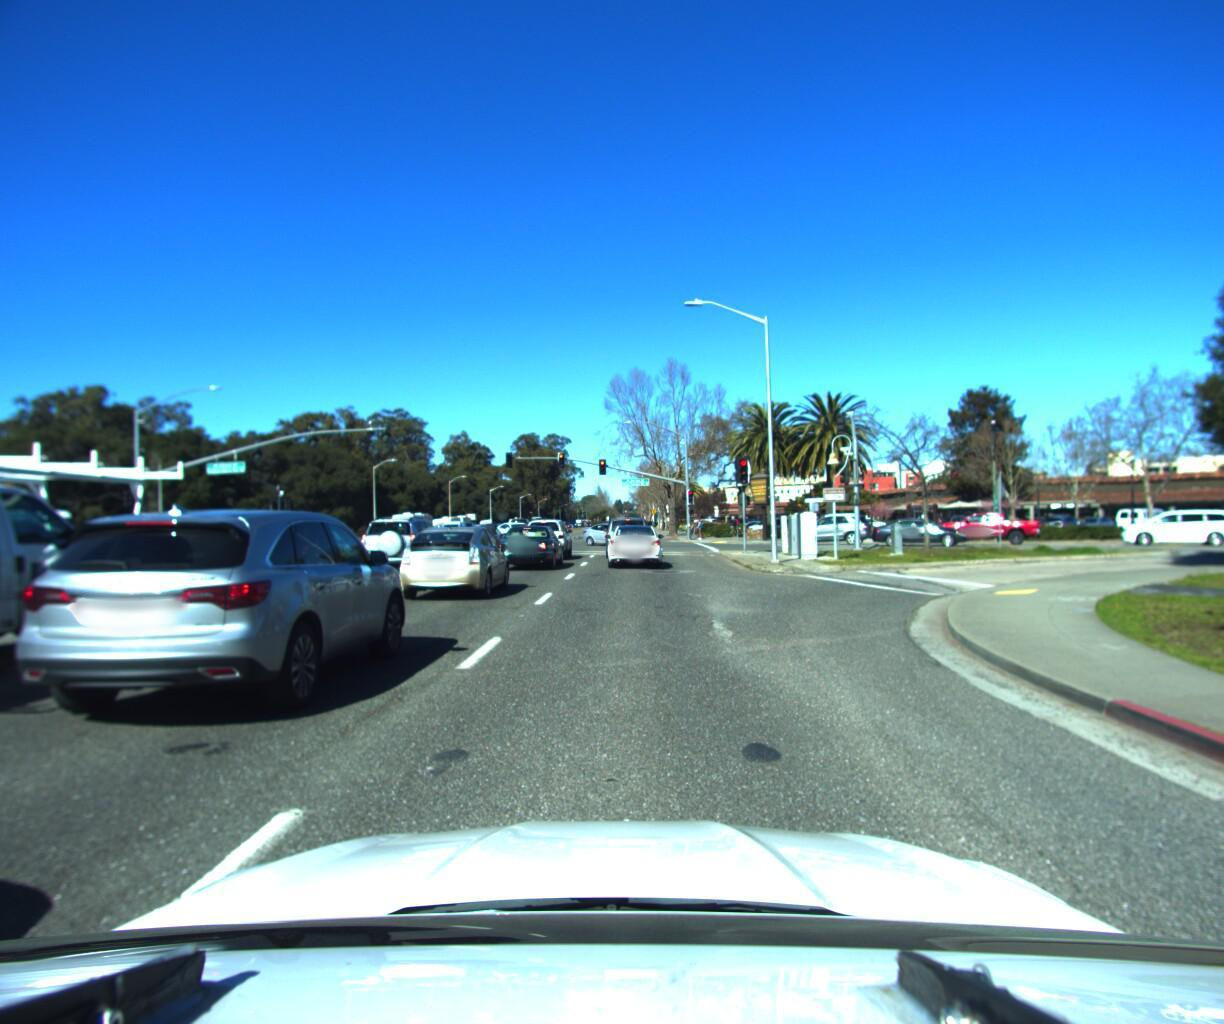car: (217, 516, 375, 604), (390, 523, 512, 606), (353, 518, 449, 581), (1107, 502, 1224, 542), (925, 505, 1039, 544), (782, 507, 883, 544), (493, 524, 564, 574), (865, 515, 969, 547), (601, 520, 663, 571), (522, 515, 573, 562), (601, 513, 649, 559), (455, 521, 510, 557), (579, 520, 655, 546), (490, 519, 535, 543), (742, 517, 769, 539)
